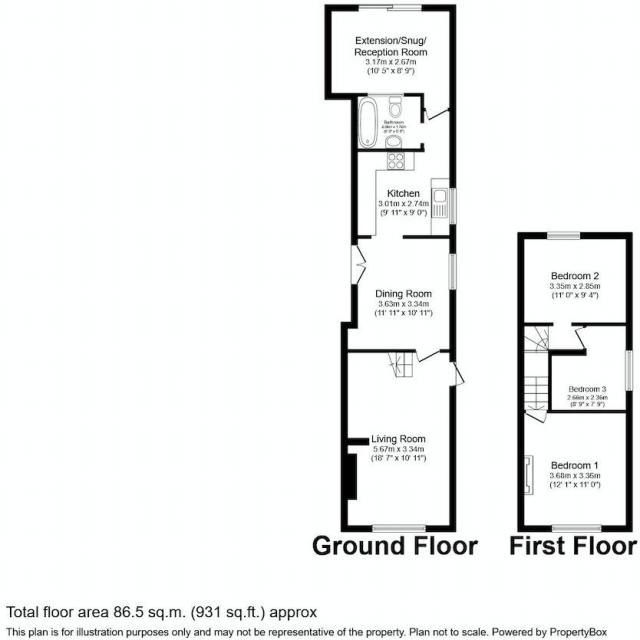DOOR: (448, 361, 467, 388), (415, 349, 441, 364), (524, 410, 548, 424), (573, 326, 587, 349), (425, 108, 448, 121)
ROOM: (341, 109, 457, 365), (340, 349, 467, 532), (324, 4, 457, 121), (517, 410, 633, 533), (517, 232, 633, 327), (548, 323, 633, 413)
SLIDING DOOR: (352, 2, 425, 14)
WINDOW: (371, 524, 427, 533), (551, 524, 602, 533), (448, 253, 457, 291), (625, 350, 633, 392), (546, 231, 581, 240), (449, 187, 457, 225)
